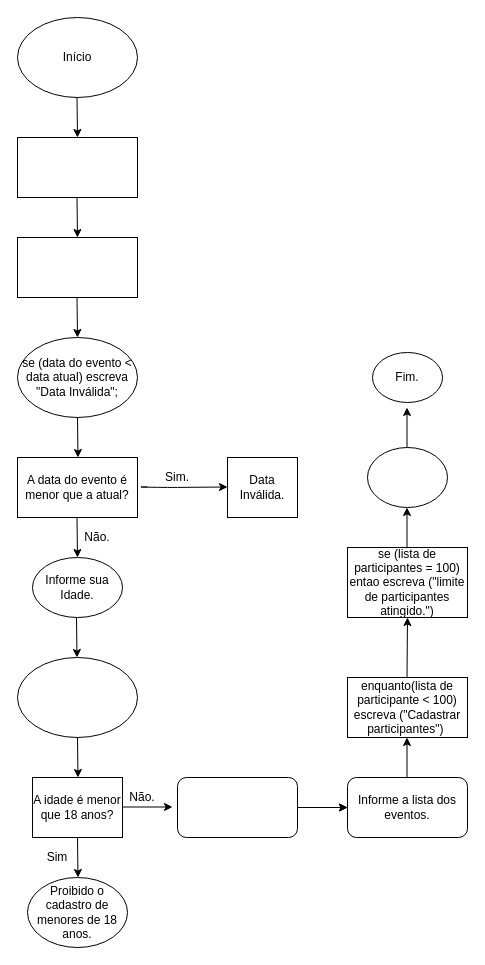
The diagram is 485 pixels wide and 965 high, and some of its shapes have lost their labels. The box of each missing label's shape, as (x1, y1, x2, y2) in pixels:
Cadastro realizado.: (366, 446, 448, 508)
Data do Evento:: (16, 236, 138, 298)
Informar a data do Evento:: (16, 136, 138, 198)
Informe a lista de participantes.: (176, 776, 298, 838)
se(idade < 18) escreva "Não é permitido o cadastro de menores de 18 anos.: (16, 656, 138, 738)
